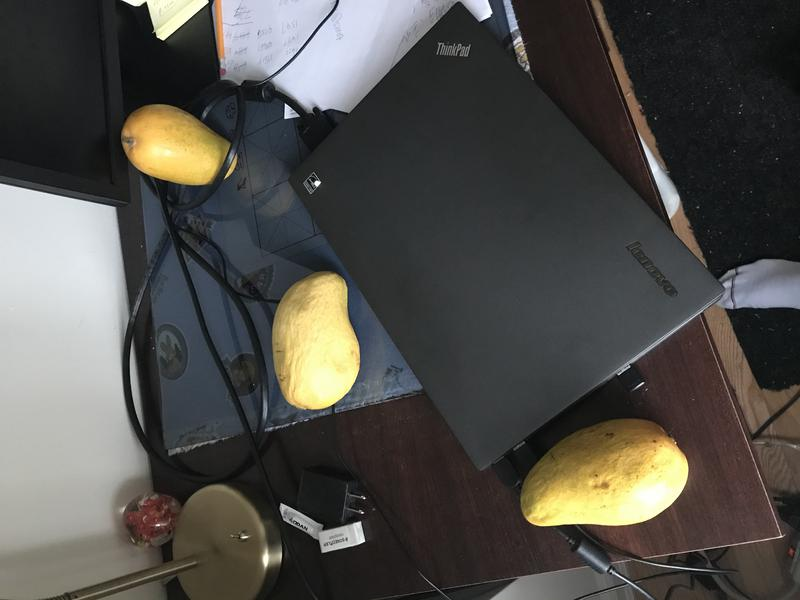mango: (512, 412, 696, 534), (262, 256, 370, 421), (114, 92, 246, 198)
